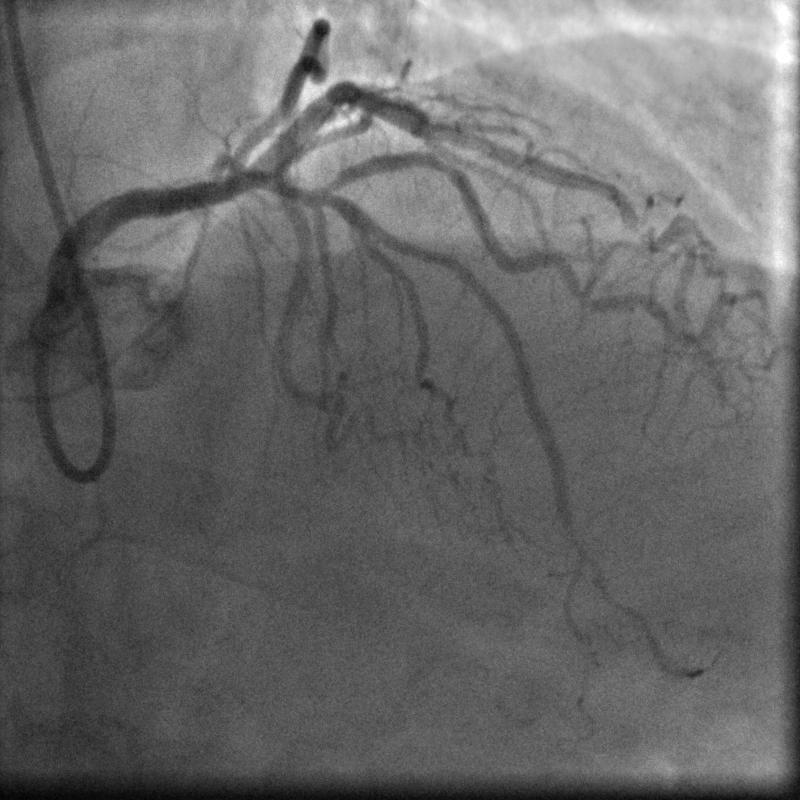Stenosis: (422, 144, 460, 188)
